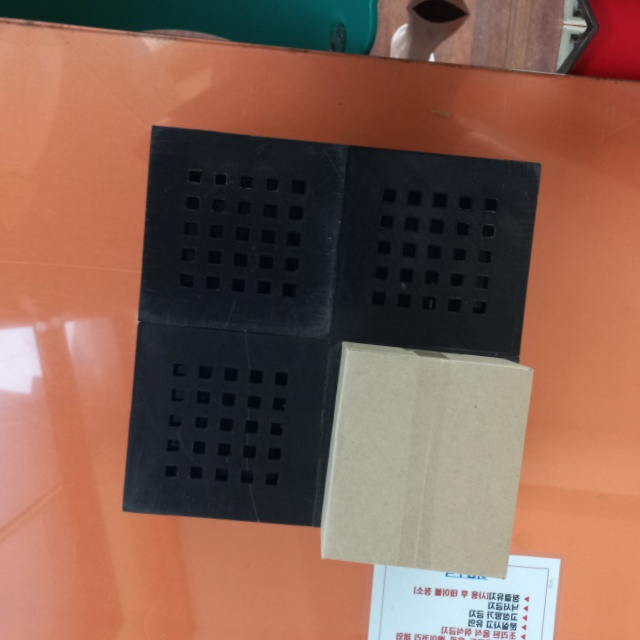box: (317, 338, 536, 582)
pallet: (104, 102, 550, 559)
